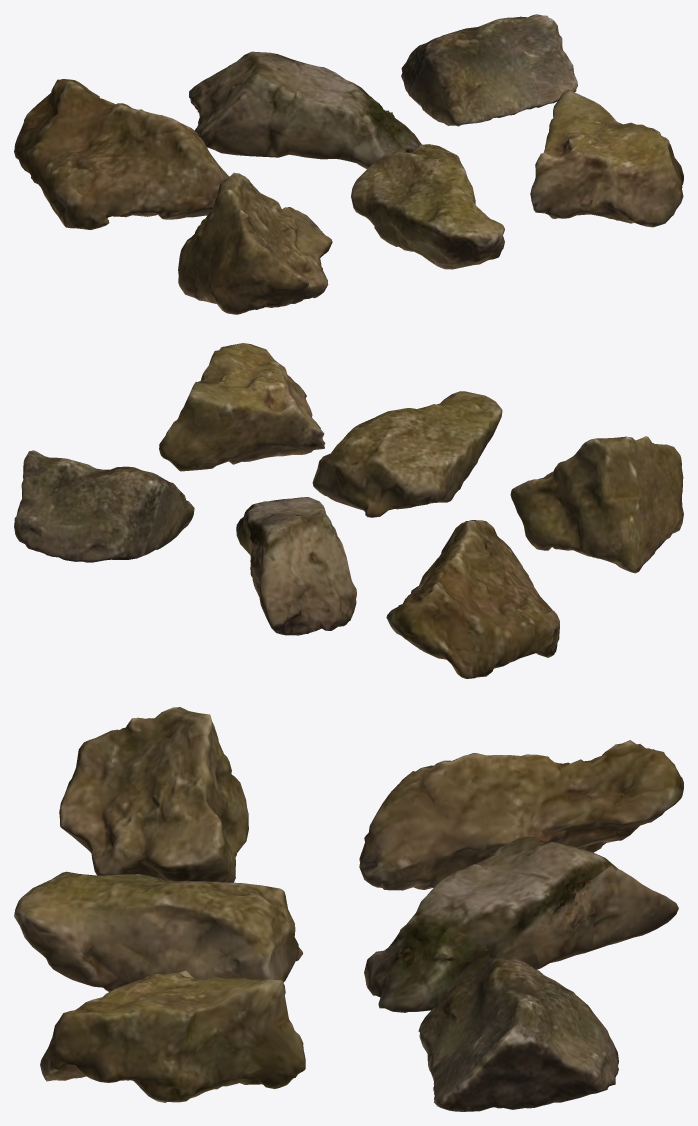
Rendered from rock_moss_set_01.glb.
The picture shows the model from 3 angles, top to bottom: view 1: azimuth 30°, elevation 25°; view 2: azimuth 150°, elevation 25°; view 3: azimuth 270°, elevation 25°; orthographic projection. The views are drawn at different scales.
Visible parts, largest first — view 1: rock_moss_set_01_rock01, rock_moss_set_01_rock02, rock_moss_set_01_rock06, rock_moss_set_01_rock04, rock_moss_set_01_rock03, rock_moss_set_01_rock05; view 2: rock_moss_set_01_rock04, rock_moss_set_01_rock01, rock_moss_set_01_rock05, rock_moss_set_01_rock03, rock_moss_set_01_rock06, rock_moss_set_01_rock02; view 3: rock_moss_set_01_rock01, rock_moss_set_01_rock02, rock_moss_set_01_rock05, rock_moss_set_01_rock04, rock_moss_set_01_rock06, rock_moss_set_01_rock03.
Part boxes in pixels (x1,y1,x2,y2): rock_moss_set_01_rock01: (14,79,229,229); rock_moss_set_01_rock02: (189,51,421,168); rock_moss_set_01_rock06: (530,89,683,227); rock_moss_set_01_rock04: (178,172,332,314); rock_moss_set_01_rock03: (401,14,577,126); rock_moss_set_01_rock05: (351,144,504,269); rock_moss_set_01_rock04: (510,436,683,573); rock_moss_set_01_rock01: (386,520,559,678); rock_moss_set_01_rock05: (312,391,502,517); rock_moss_set_01_rock03: (14,450,194,562); rock_moss_set_01_rock06: (159,343,325,471); rock_moss_set_01_rock02: (236,497,356,635); rock_moss_set_01_rock01: (359,740,683,890); rock_moss_set_01_rock02: (364,836,678,1012); rock_moss_set_01_rock05: (14,871,302,991); rock_moss_set_01_rock04: (59,707,248,882); rock_moss_set_01_rock06: (40,970,305,1102); rock_moss_set_01_rock03: (418,956,618,1111).
Bounding box in the file's own units: 8 × 1.77 × 6.94.
1 material, 1 textured.
